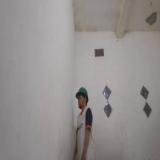Helmet: (76, 86, 90, 105)
